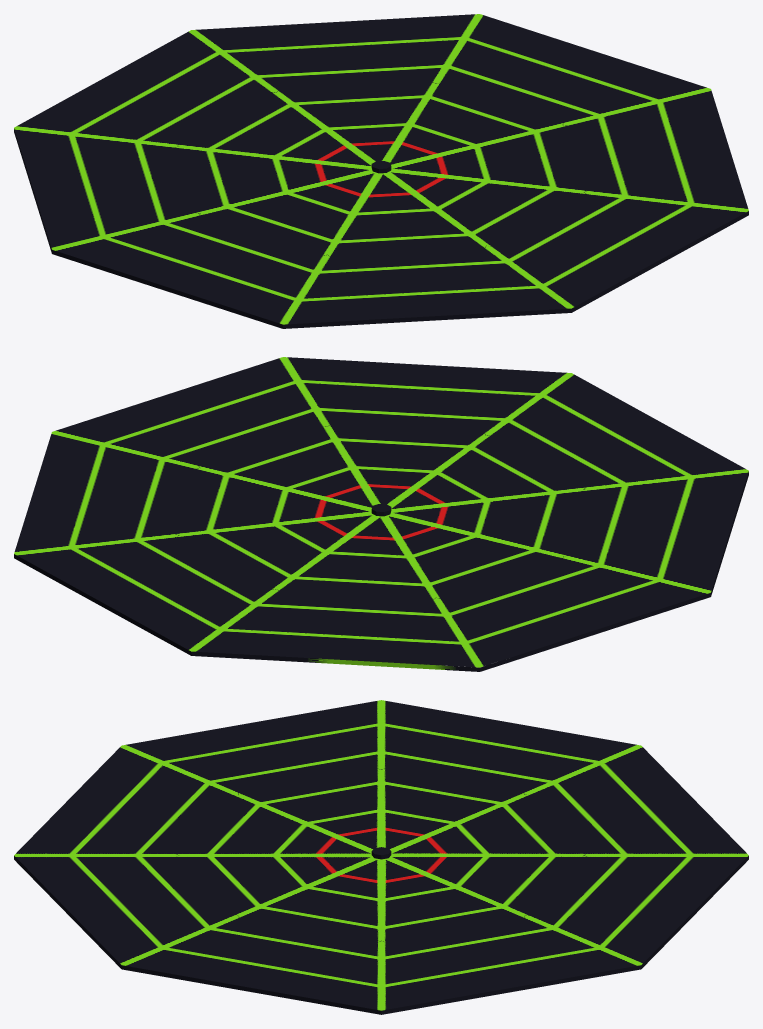
File: map.glb
3 views of the same model, one above another, from view 1: azimuth 30°, elevation 25°; view 2: azimuth 150°, elevation 25°; view 3: azimuth 270°, elevation 25° (orthographic). The views are drawn at different scales.
Visible parts, largest first — view 1: Cylinder; view 2: Cylinder; view 3: Cylinder.
Boxes of the visible parts, <box> form: Cylinder: <box>14,14,748,328</box>; Cylinder: <box>14,357,748,671</box>; Cylinder: <box>14,700,748,1014</box>.
Size of the model in its own units: 75.34 by 0.9532 by 75.34.
Materials: 1 (1 with a texture image).
